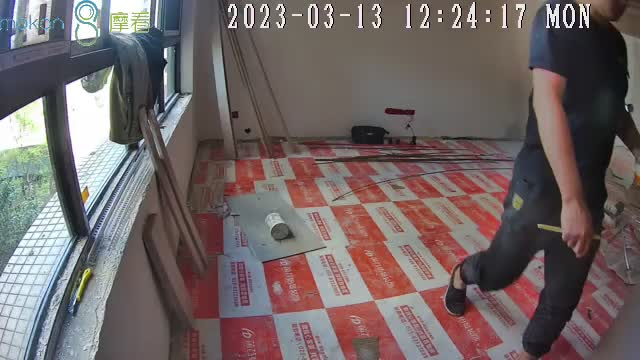people: (445, 1, 640, 360)
window: (2, 1, 181, 360)
